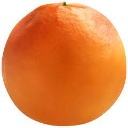orange: (2, 2, 128, 128)
